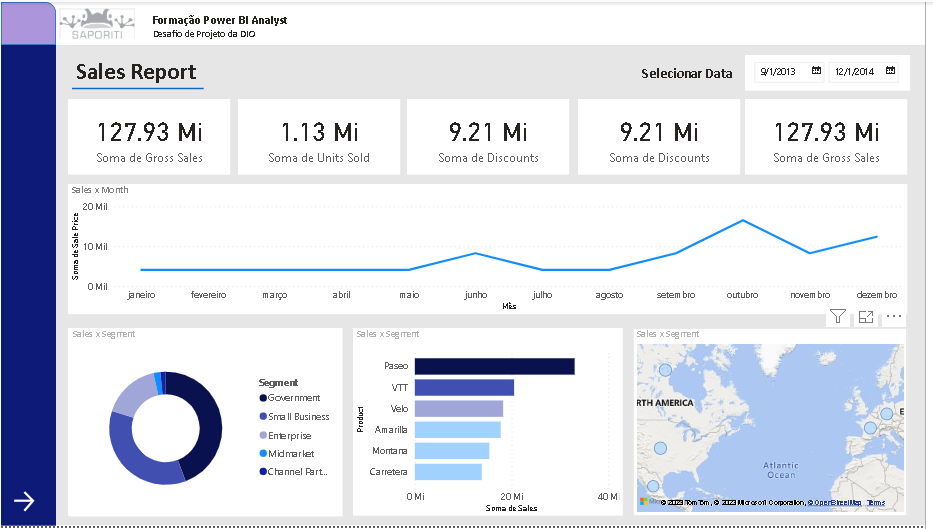

Layout of this report page (visuals, bound fields, positions):
{"tool":"powerbi","page":{"name":"Página 1","canvas":[1280,720],"ordinal":0},"visuals":[{"type":"shape","box":[49.5,0,1230.5,719.1],"z":0},{"type":"shape","box":[59.1,0,1220.9,59.1],"z":1000},{"type":"card","fields":{"Values":["Sum(financials.Gross Sales)"]},"box":[101.7,133.4,222.7,104.5],"z":2000},{"type":"shape","box":[9.6,11,75.6,709.4],"z":3000},{"type":"shape","box":[9.6,0,75.6,59.1],"z":4000},{"type":"textbox","box":[213.3,10.2,300.4,49.5],"z":5000},{"type":"textbox","box":[107.2,71.5,299.7,52.2],"z":6000},{"type":"shape","box":[107.2,114.1,181.5,9.6],"z":7000},{"type":"lineChart","title":"Sales x Month","fields":{"Category":["financials.Date.Variation.Hierarquia de datas.Mês"],"Y":["Sum(financials.Sale Price)"]},"box":[101.7,250.2,1153.5,178.7],"z":8000},{"type":"card","fields":{"Values":["Sum(financials.Units Sold)"]},"box":[335.5,133.4,222.7,104.5],"z":9000},{"type":"card","fields":{"Values":["Sum(financials.Discounts)"]},"box":[567.8,133.4,222.7,104.5],"z":10000},{"type":"card","fields":{"Values":["Sum(financials.Discounts)"]},"box":[802.9,133.4,222.7,104.5],"z":11000},{"type":"card","fields":{"Values":["Sum(financials.Gross Sales)"]},"box":[1032.5,133.4,222.7,104.5],"z":12000},{"type":"clusteredBarChart","title":"Sales x Segment","fields":{"Y":["Sum(financials. Sales)"],"Category":["financials.Segment"]},"box":[101.7,448.2,376.7,258.5],"z":13000},{"type":"clusteredBarChart","title":"Sales x Segment","fields":{"Y":["Sum(financials. Sales)"],"Category":["financials.Product"]},"box":[493.6,448.2,371.2,258.5],"z":14000},{"type":"map","title":"Sales x Segment","fields":{"Size":["Sum(financials. Sales)"],"Category":["financials.Country"]},"box":[878.5,448.2,376.7,258.5],"z":15000},{"type":"slicer","fields":{"Values":["financials.Date"]},"box":[1033,72.9,226.9,49.5],"z":16000},{"type":"donutChart","title":"Sales x Segment","fields":{"Category":["financials.Segment"],"Y":["Sum(financials. Sales)"]},"box":[102.7,448,376,258.7],"z":18000},{"type":"textbox","box":[870.8,81.1,149.9,37.1],"z":19000},{"type":"image","box":[85.3,0,112.6,59.7],"z":20000},{"type":"actionButton","box":[22.2,667.3,37.5,39.3],"z":21000}]}

Visuals, with their boxes on the page's 1280x720 design canvas (x1, y1, x2, y2). These are canvas units, not pixel positions in the 933x529 screenshot, which may show the page scaled, cropped or inside an application window:
shape: (50, 0, 1280, 719)
shape: (59, 0, 1280, 59)
card - Sum(financials.Gross Sales): (102, 133, 324, 238)
shape: (10, 11, 85, 720)
shape: (10, 0, 85, 59)
textbox: (213, 10, 514, 60)
textbox: (107, 72, 407, 124)
shape: (107, 114, 289, 124)
"Sales x Month" lineChart: (102, 250, 1255, 429)
card - Sum(financials.Units Sold): (336, 133, 558, 238)
card - Sum(financials.Discounts): (568, 133, 790, 238)
card - Sum(financials.Discounts): (803, 133, 1026, 238)
card - Sum(financials.Gross Sales): (1032, 133, 1255, 238)
"Sales x Segment" clusteredBarChart: (102, 448, 478, 707)
"Sales x Segment" clusteredBarChart: (494, 448, 865, 707)
"Sales x Segment" map: (878, 448, 1255, 707)
slicer - financials.Date: (1033, 73, 1260, 122)
"Sales x Segment" donutChart: (103, 448, 479, 707)
textbox: (871, 81, 1021, 118)
image: (85, 0, 198, 60)
actionButton: (22, 667, 60, 707)
